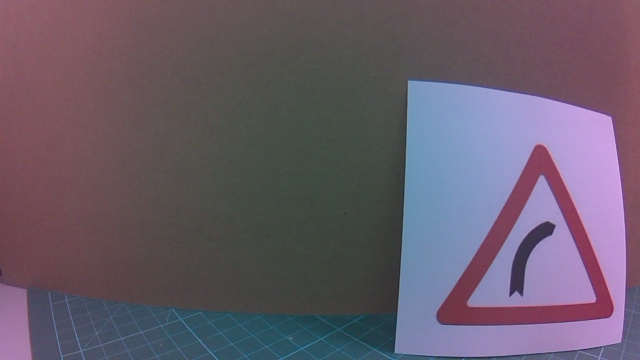right: (428, 151, 628, 327)
